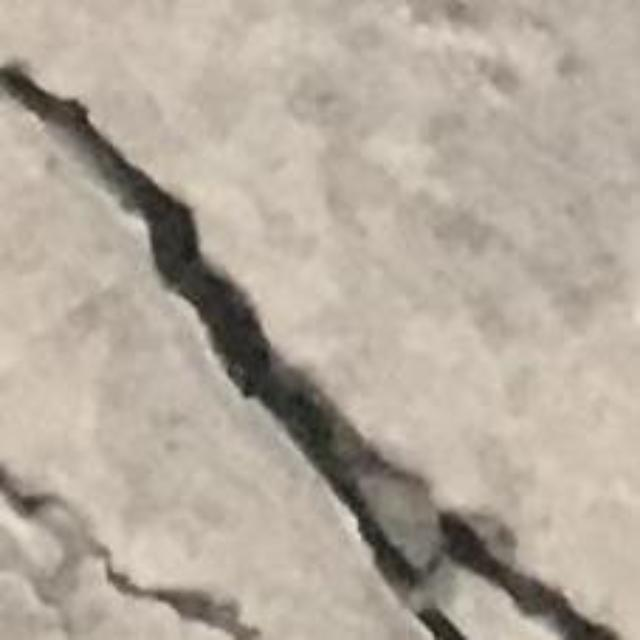crack: (0, 65, 620, 639)
